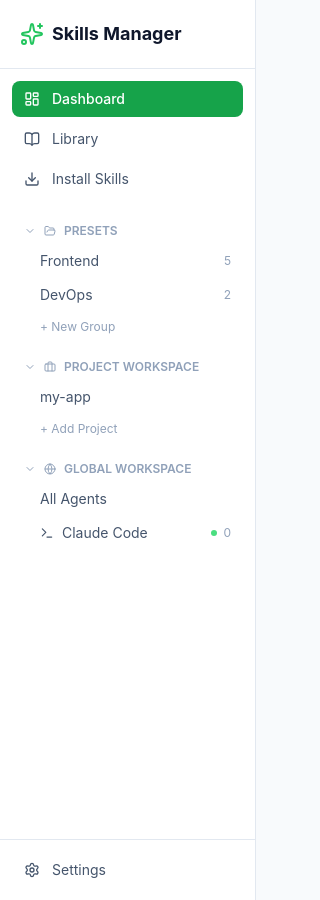
Test case: Sidebar › collapses agents section on click
The width and height of the screenshot is (320, 900).
Expected: the text "Claude Code" is shown, top-left (40, 523), bottom-right (148, 543)
Click the button "Global Workspace" at (128, 469), box top-left (12, 455), bottom-right (243, 483)
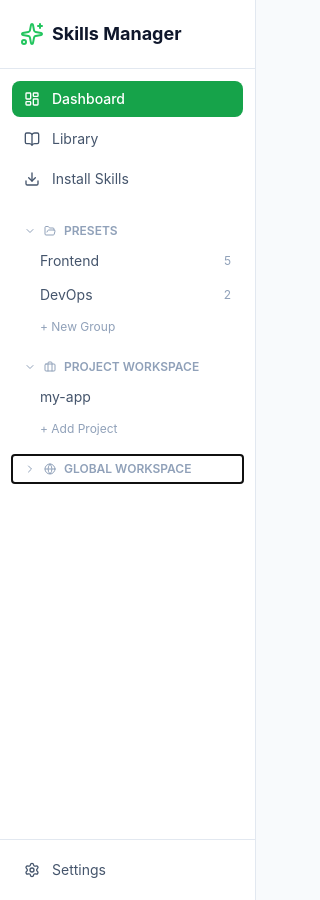
Expected: the link "Claude Code" is gone
